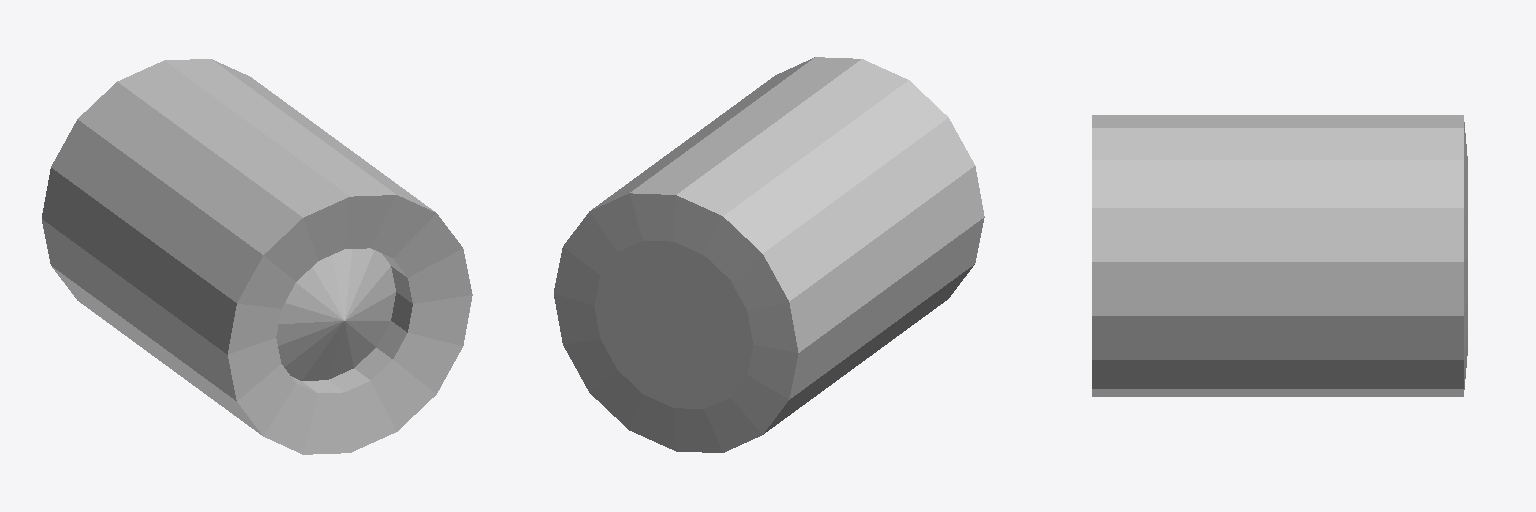
Rendered from MissileLauncher.obj.
The picture shows the model from 3 angles: view 1: azimuth 30°, elevation 25°; view 2: azimuth 150°, elevation 25°; view 3: azimuth 270°, elevation 25°; orthographic projection.
Parts seen in each view (by area): view 1: Missile_Launcher_Missile_Launcher; view 2: Missile_Launcher_Missile_Launcher; view 3: Missile_Launcher_Missile_Launcher.
Boxes of the visible parts, box(x1,y1,x2,y2) form: Missile_Launcher_Missile_Launcher: box(42, 59, 472, 454); Missile_Launcher_Missile_Launcher: box(554, 57, 984, 452); Missile_Launcher_Missile_Launcher: box(1092, 115, 1467, 396).
Size of the model in its own units: 1.23 by 1.23 by 1.64.